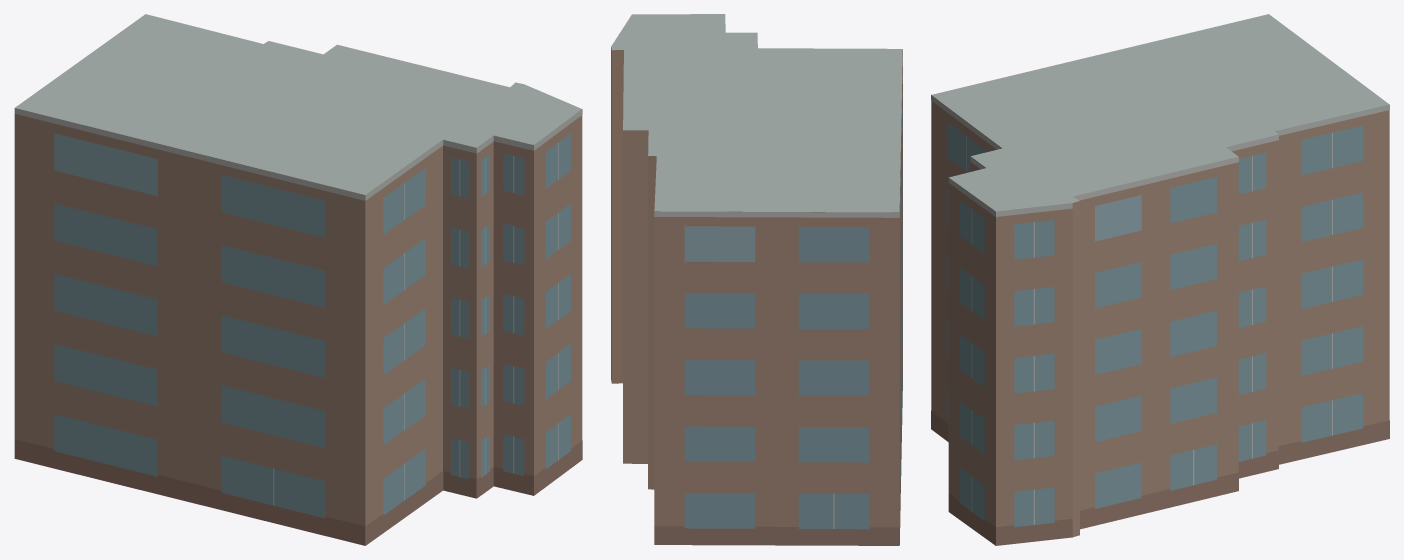
The model's file is survey-upis-32682234.glb.
The picture shows the model from 3 angles, left to right: view 1: azimuth 30°, elevation 25°; view 2: azimuth 150°, elevation 25°; view 3: azimuth 270°, elevation 25°; orthographic projection. The views are drawn at different scales.
Parts seen in each view (by area): view 1: survey-upis-32682234.tmp; view 2: survey-upis-32682234.tmp; view 3: survey-upis-32682234.tmp.
Part boxes in pixels (left/top/right/bottom): survey-upis-32682234.tmp: left=14, top=14, right=582, bottom=545; survey-upis-32682234.tmp: left=611, top=14, right=902, bottom=545; survey-upis-32682234.tmp: left=931, top=14, right=1389, bottom=545.
Bounding box in the file's own units: 18.89 × 14.9 × 18.53.
